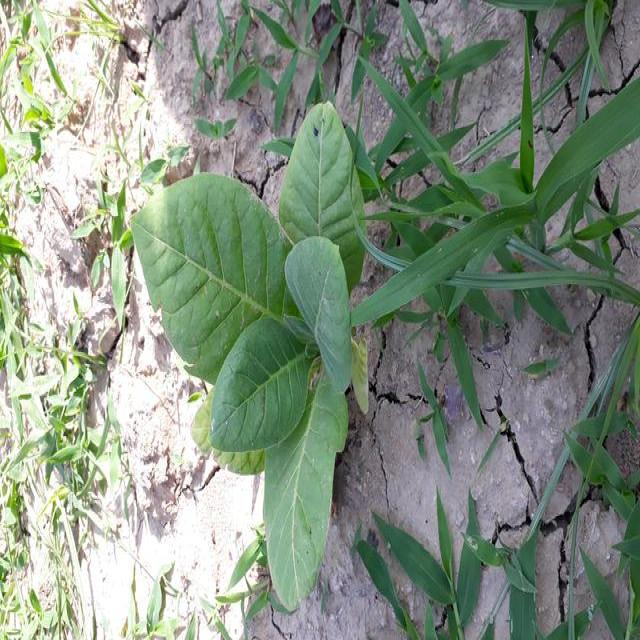crop: (135, 99, 379, 602)
